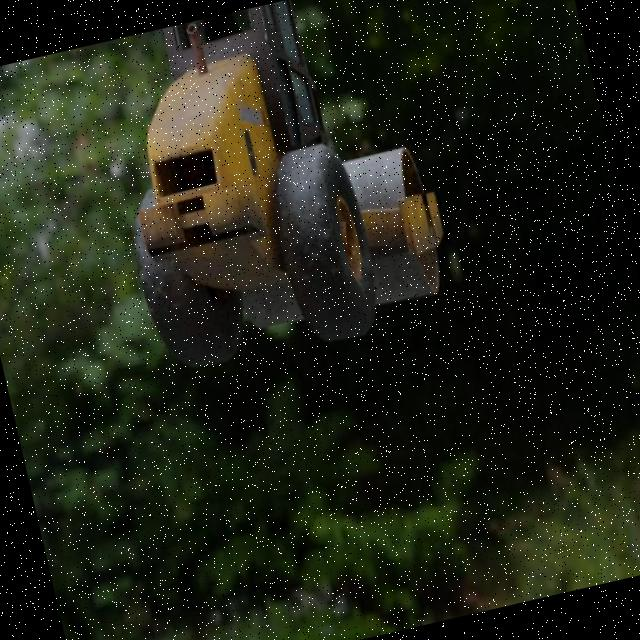Roller: (85, 0, 462, 382)
